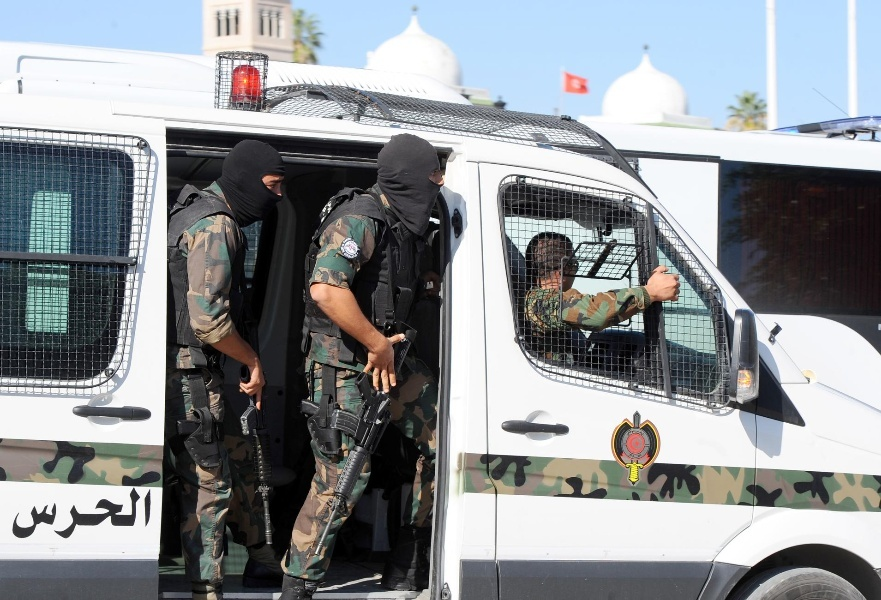text: (33, 487, 48, 542), (49, 487, 64, 542), (65, 487, 80, 542), (81, 487, 96, 542), (97, 487, 112, 542), (113, 487, 128, 542), (129, 487, 144, 542), (18, 487, 32, 542), (145, 487, 152, 542), (628, 451, 640, 460), (626, 429, 640, 436), (340, 246, 352, 254), (342, 236, 352, 244), (641, 428, 646, 438), (345, 253, 352, 259), (353, 253, 360, 259), (353, 240, 359, 247), (636, 428, 640, 438), (641, 451, 643, 460), (351, 240, 352, 247)
